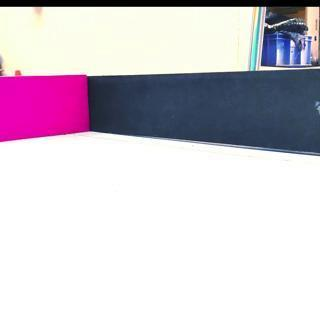xparking: (1, 78, 86, 129)
